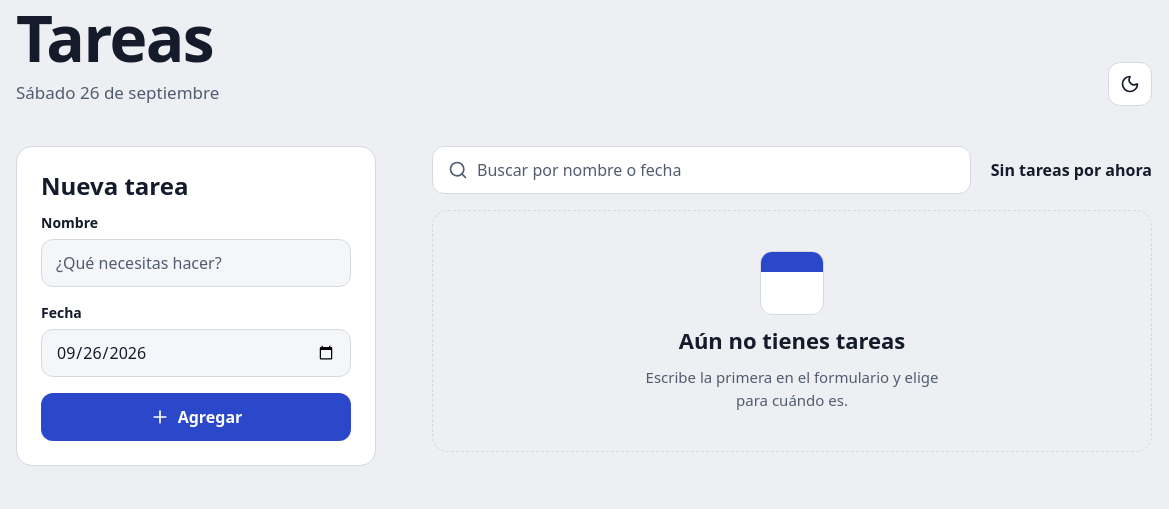
does not add a task without a name
Step 1. Click the button "Agregar" → point(196, 416), box [41,392,351,440]
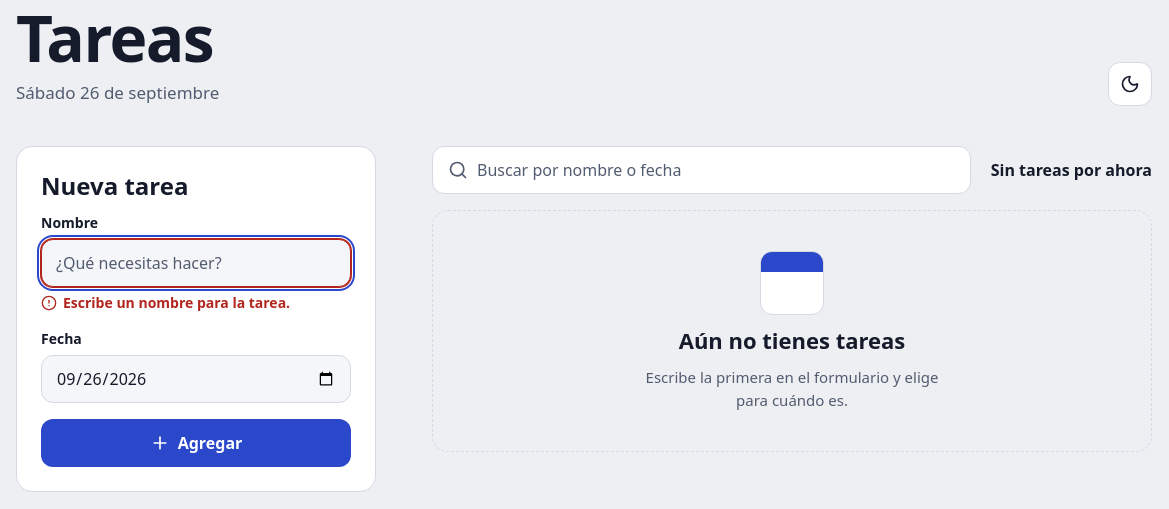
Expected: the text "Escribe un nombre para la tarea." is shown, [41,292,290,312]
